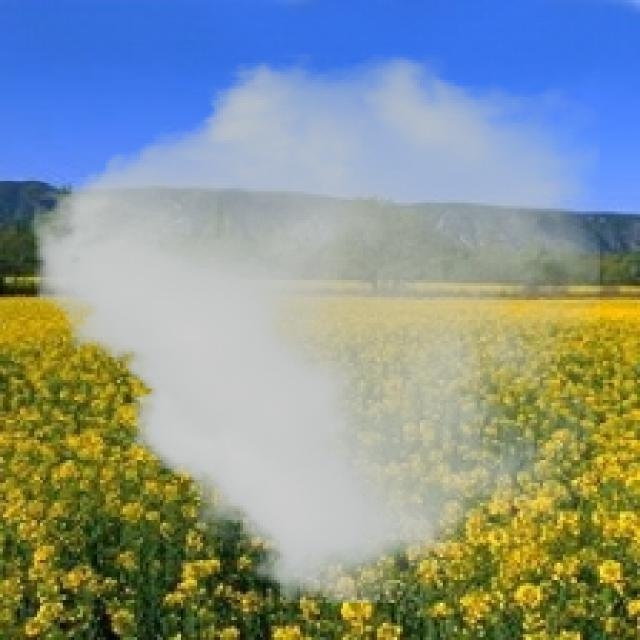smoke: (34, 54, 600, 603)
